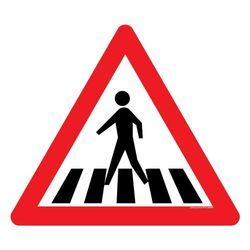pedestrian: (31, 50, 224, 221)
